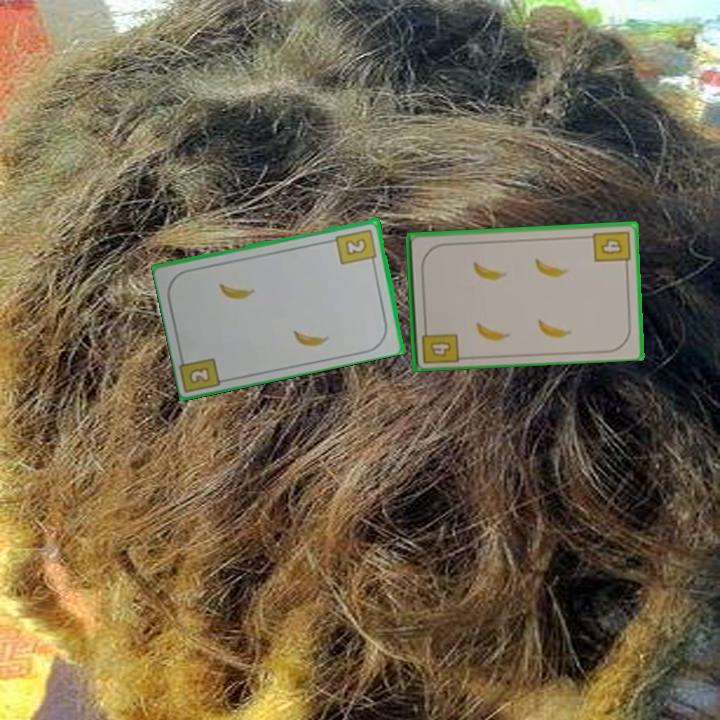2b: (333, 225, 380, 267), (185, 363, 214, 387)
4b: (418, 321, 461, 366), (590, 227, 633, 270)
